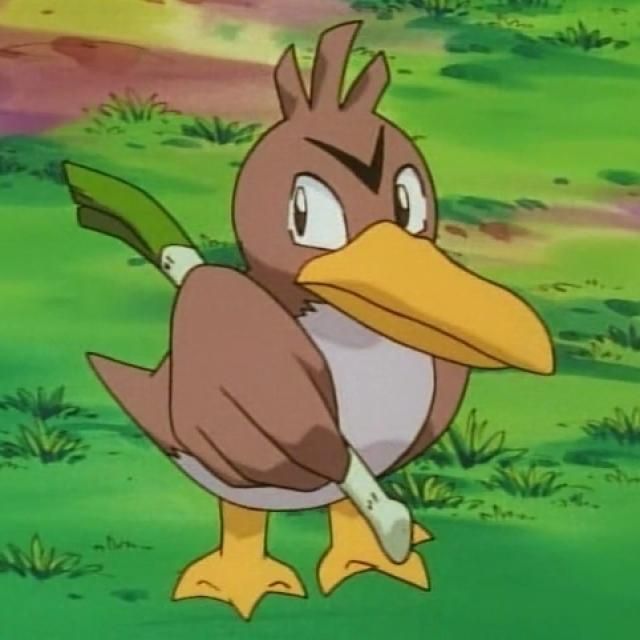Farfetchd: (146, 38, 502, 607)
